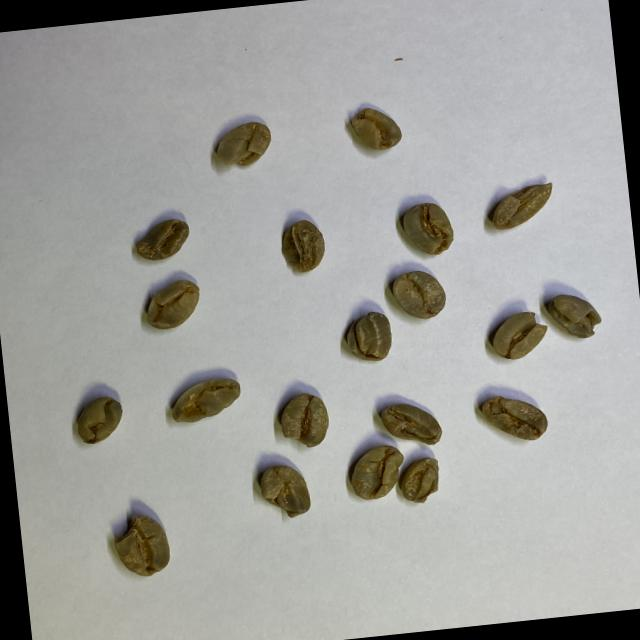bad: (108, 509, 175, 582), (478, 389, 552, 448), (166, 374, 246, 426), (346, 439, 409, 504), (252, 461, 314, 525), (274, 388, 334, 453), (376, 397, 446, 452), (396, 197, 457, 260), (386, 264, 450, 324), (140, 275, 206, 333), (488, 180, 560, 232), (486, 308, 552, 364), (210, 118, 276, 172), (542, 288, 605, 344), (276, 215, 330, 278), (340, 307, 396, 365), (346, 102, 406, 156), (130, 214, 194, 264), (72, 393, 128, 448), (396, 454, 448, 507)
